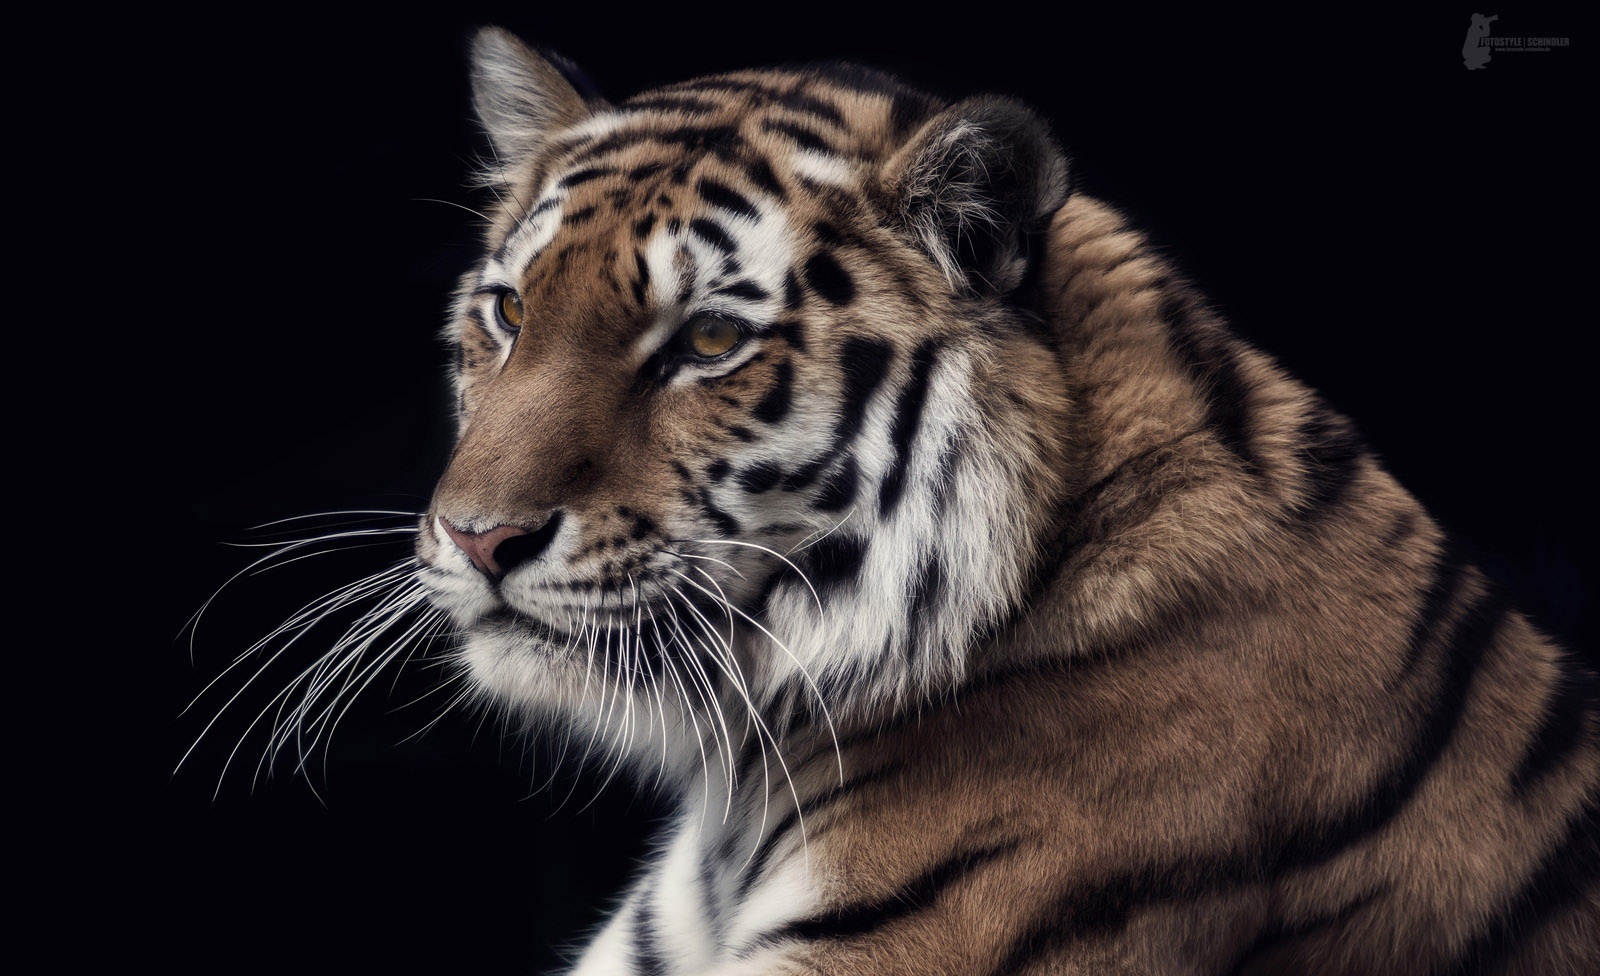tiger: (334, 31, 1566, 933)
